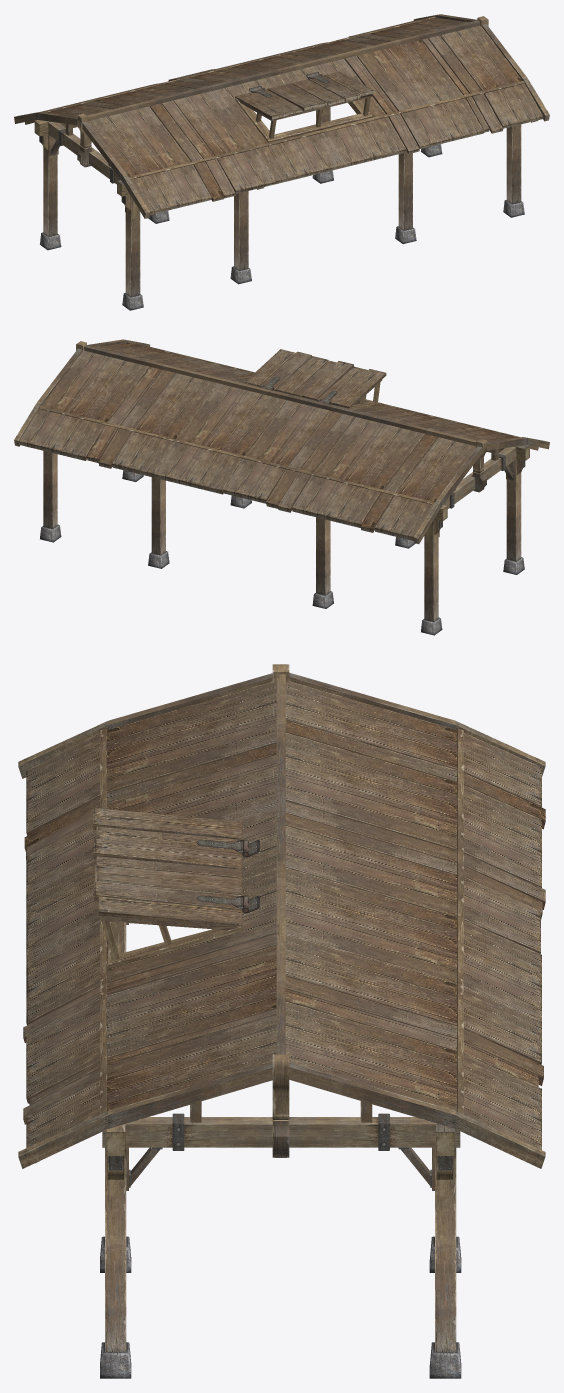
File: Tower9-2.fbx
The picture shows the model from 3 angles, top to bottom: view 1: azimuth 30°, elevation 25°; view 2: azimuth 150°, elevation 25°; view 3: azimuth 270°, elevation 25°; orthographic projection. The views are drawn at different scales.
Visible parts, largest first — view 1: LV_M5_Port_Warehouse_SM_KHJ; view 2: LV_M5_Port_Warehouse_SM_KHJ; view 3: LV_M5_Port_Warehouse_SM_KHJ.
Part boxes in pixels (left/top/right/bottom): LV_M5_Port_Warehouse_SM_KHJ: left=14, top=14, right=549, bottom=310; LV_M5_Port_Warehouse_SM_KHJ: left=14, top=339, right=549, bottom=635; LV_M5_Port_Warehouse_SM_KHJ: left=18, top=664, right=545, bottom=1378.
Size of the model in its own units: 4.31 by 1.64 by 2.41.
1 material, 1 textured.
